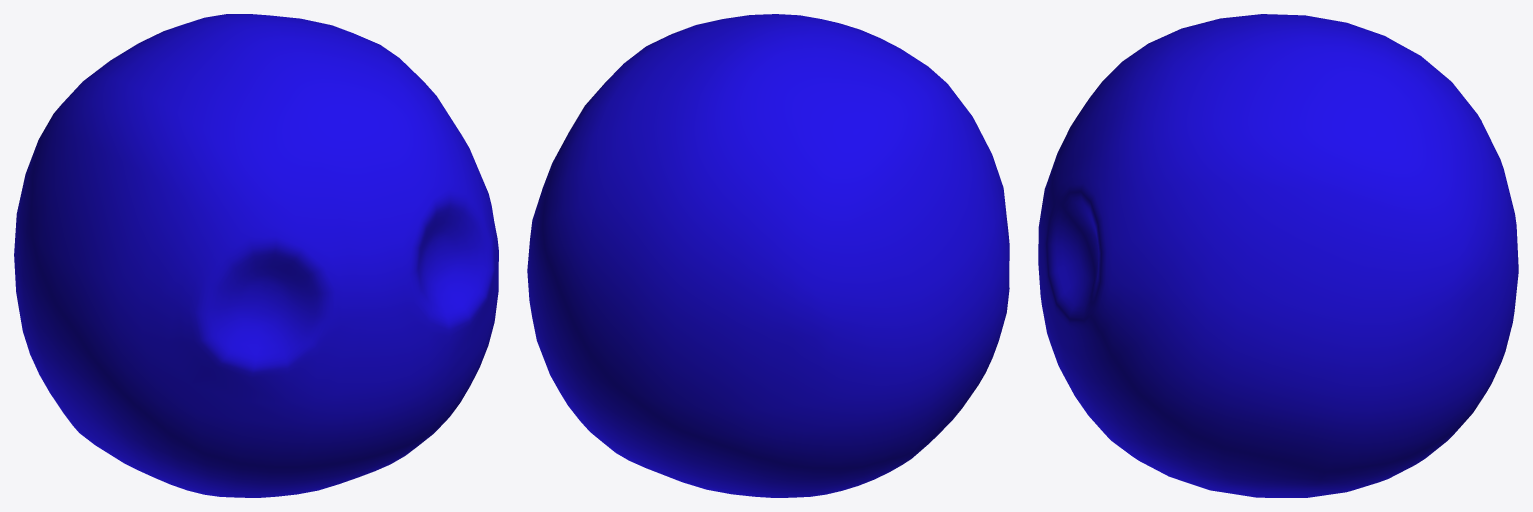
The model's file is Space Boi Moon.fbx.
3 views of the same model, side by side, from view 1: azimuth 30°, elevation 25°; view 2: azimuth 150°, elevation 25°; view 3: azimuth 270°, elevation 25° (orthographic).
Parts seen in each view (by area): view 1: Planet.002; view 2: Planet.002; view 3: Planet.002.
Boxes of the visible parts, box(x1,y1,x2,y2) form: Planet.002: box(14, 14, 498, 497); Planet.002: box(527, 14, 1009, 497); Planet.002: box(1038, 14, 1518, 497).
Bounding box in the file's own units: 183 × 185 × 186.
